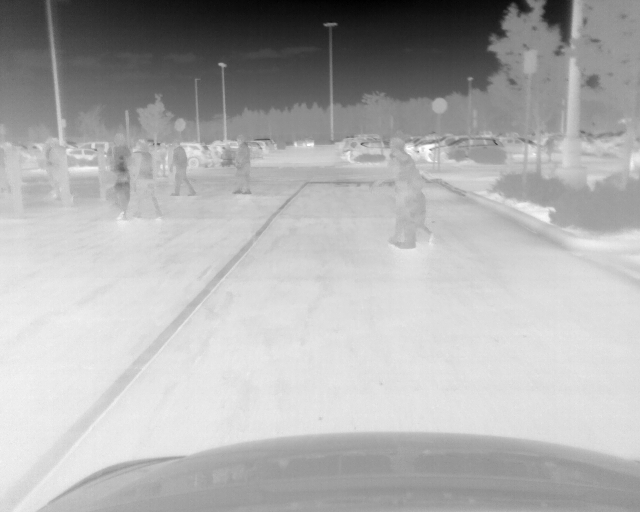car: (430, 137, 501, 161), (350, 138, 403, 159), (416, 136, 455, 159), (187, 142, 213, 168), (66, 148, 95, 160), (84, 141, 110, 149), (292, 137, 314, 146), (259, 138, 269, 154), (253, 143, 261, 157)
people: (381, 139, 426, 250), (133, 138, 163, 221), (103, 138, 133, 221), (41, 135, 70, 200), (169, 143, 196, 197), (410, 192, 432, 248), (232, 136, 252, 195), (158, 145, 167, 176)
